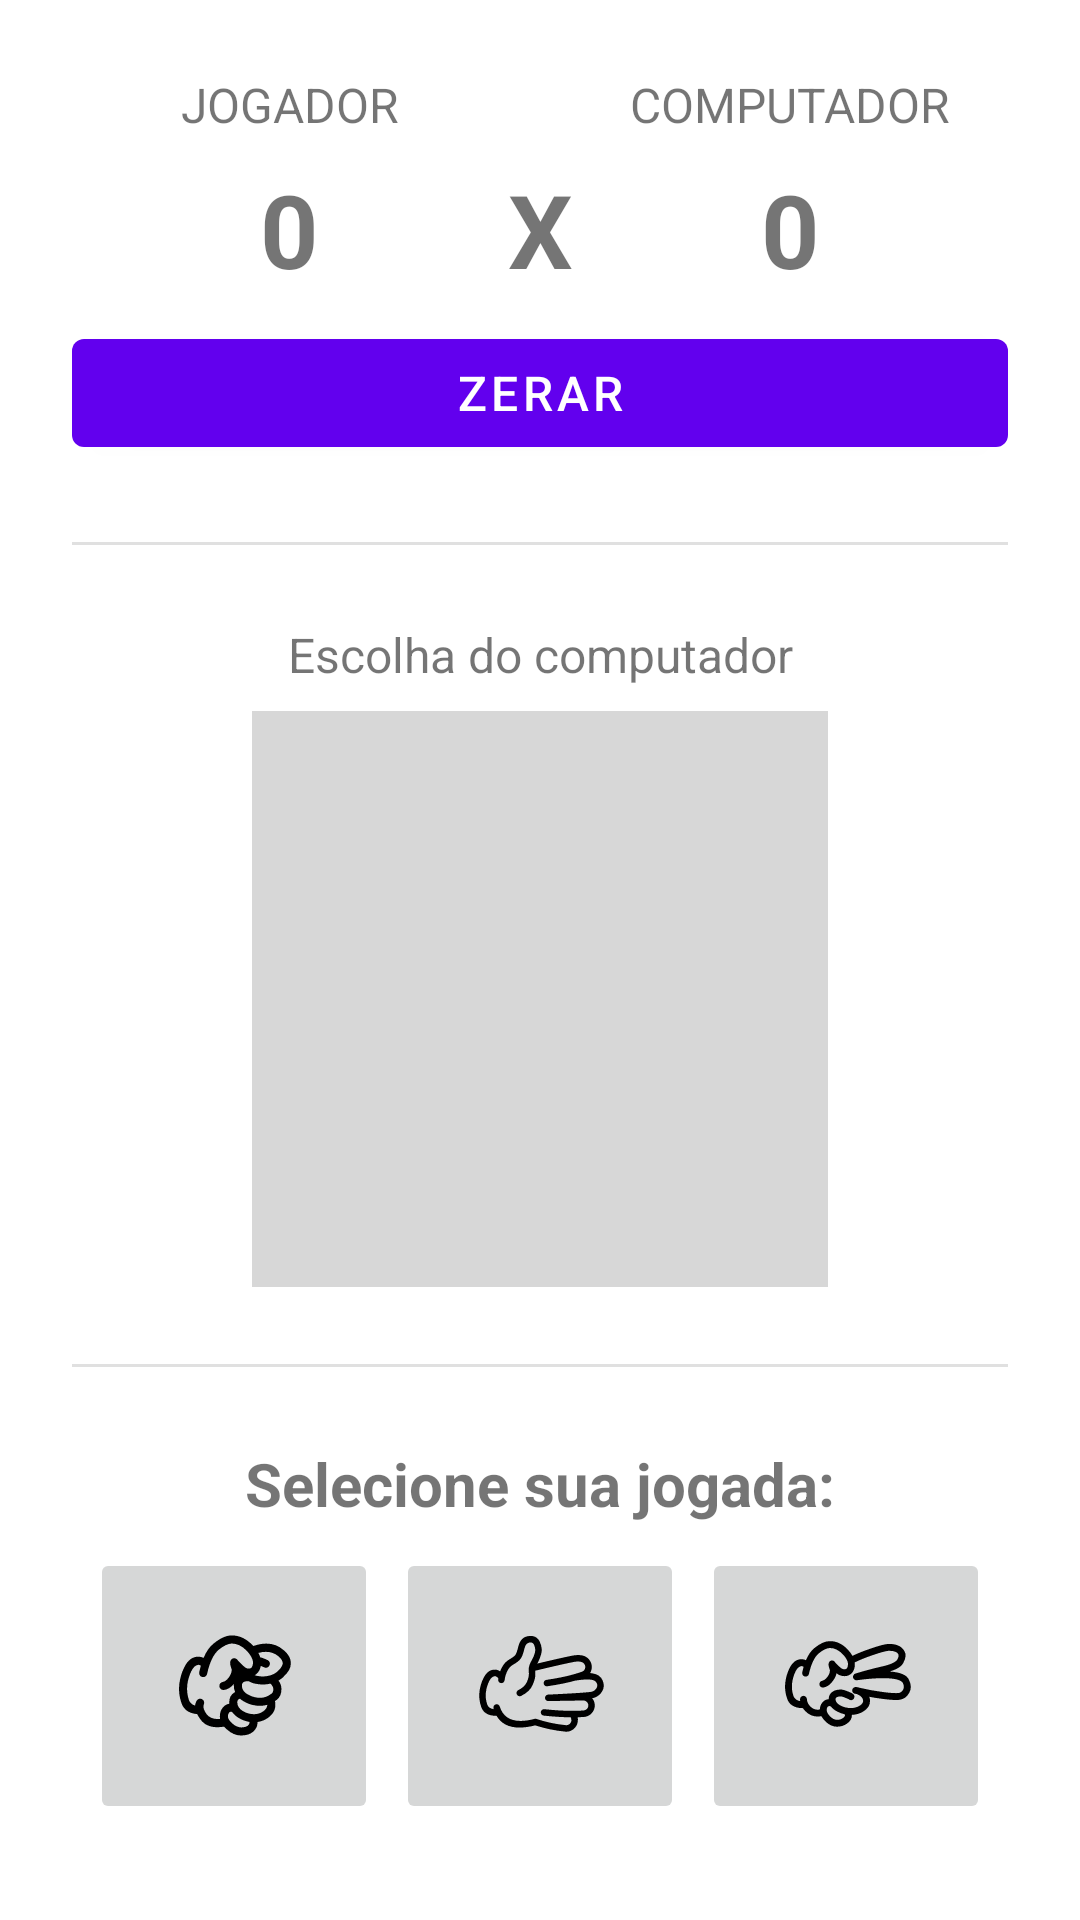

Where icons sit on this 1080 x 1920 app screen, as (x1, y1, x2, y2):
Papel: (408, 1566, 672, 1806)
Pedra: (102, 1566, 366, 1806)
Tesoura: (714, 1566, 978, 1806)
